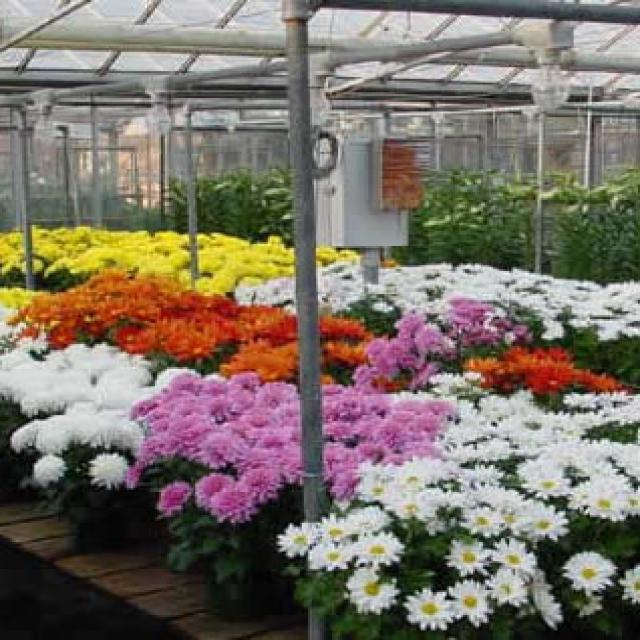flowers in pot: (274, 369, 636, 634), (125, 369, 439, 575), (233, 254, 634, 382), (16, 269, 370, 384), (2, 340, 187, 511), (0, 225, 352, 309), (344, 300, 507, 396), (469, 338, 634, 402), (0, 303, 60, 352)
plants: (405, 171, 531, 267), (165, 161, 292, 242), (553, 167, 636, 284)
